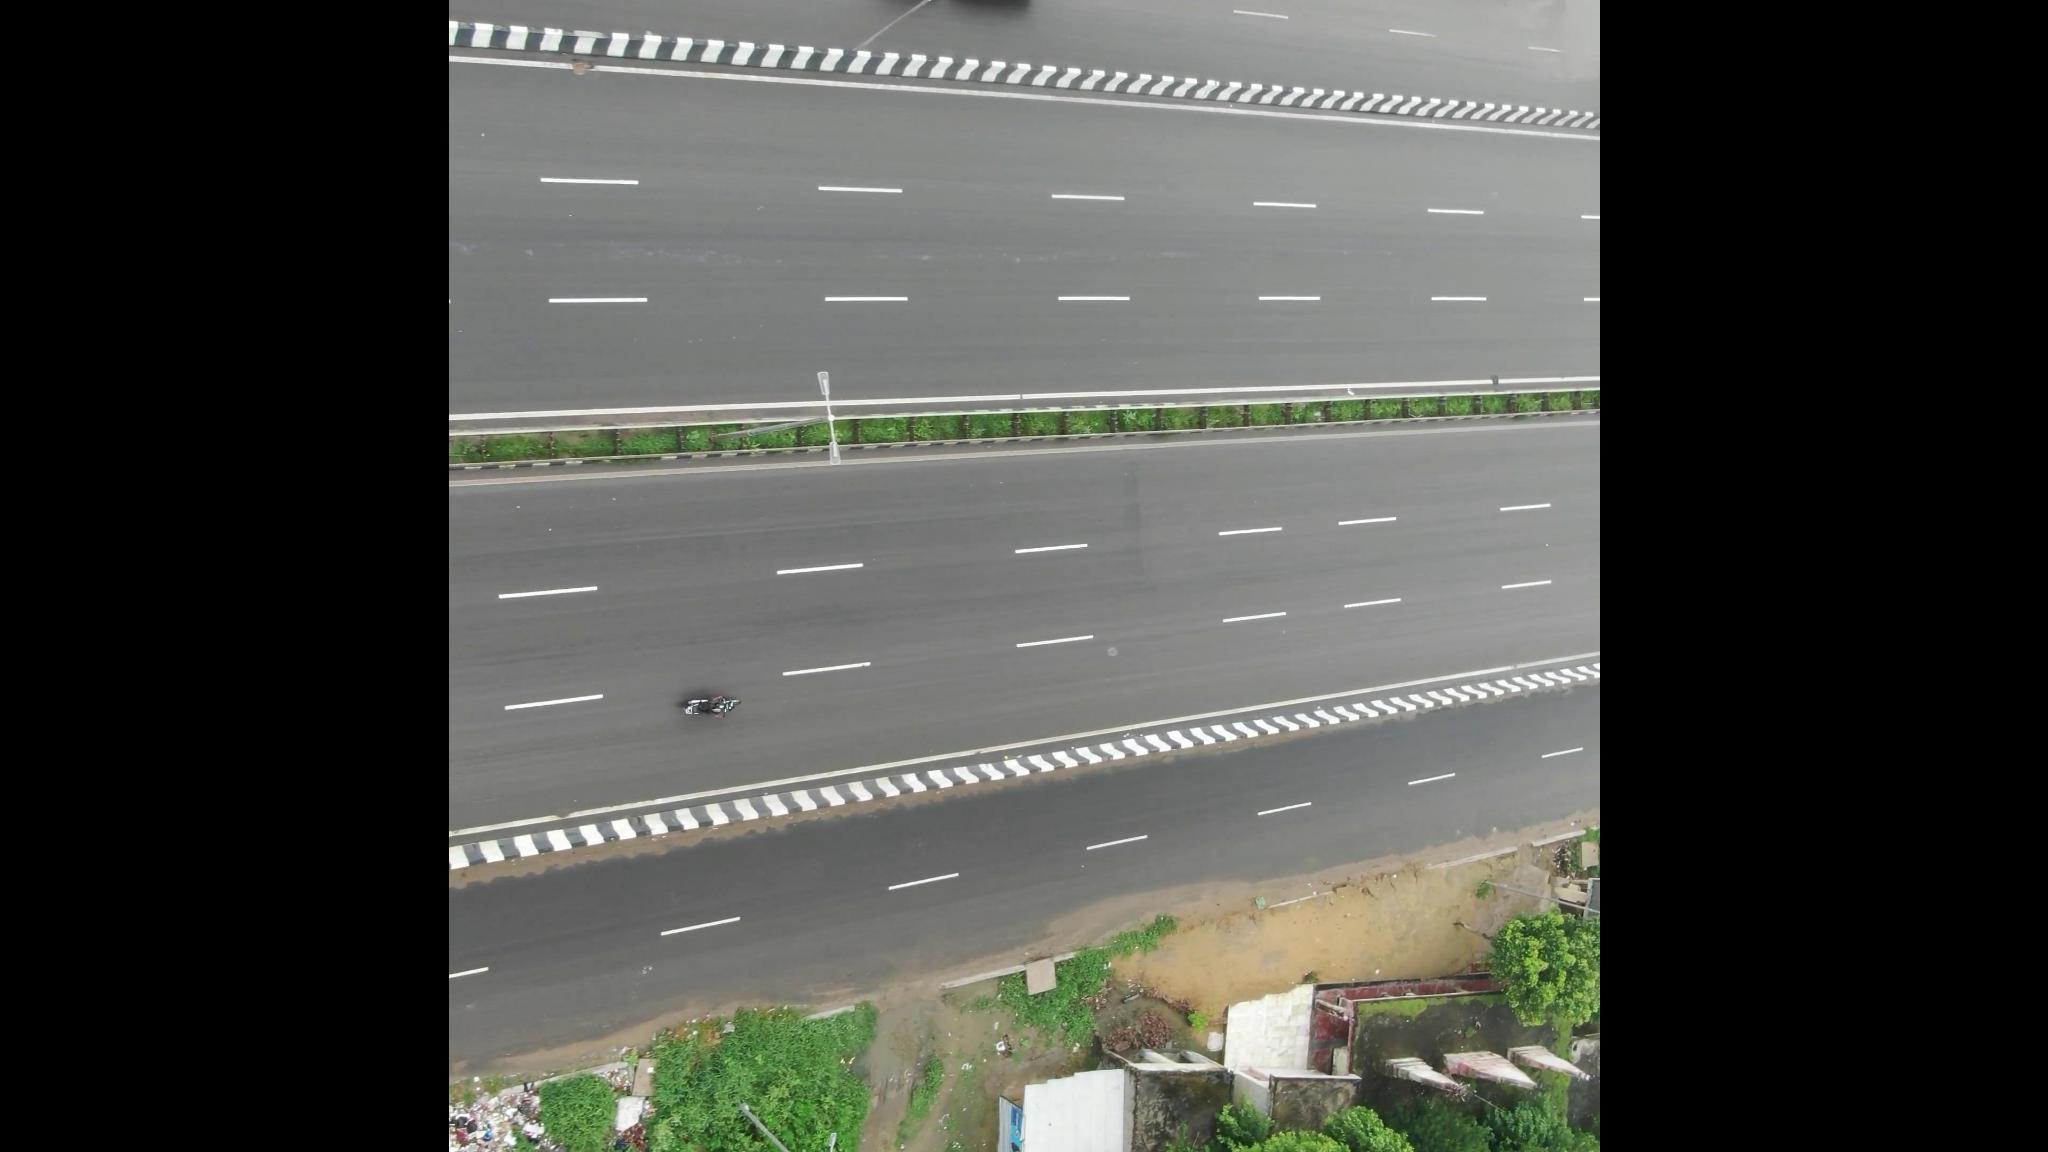Muddy_road: (1059, 873, 1273, 948)
Road_side_garbage: (452, 1090, 546, 1152)
